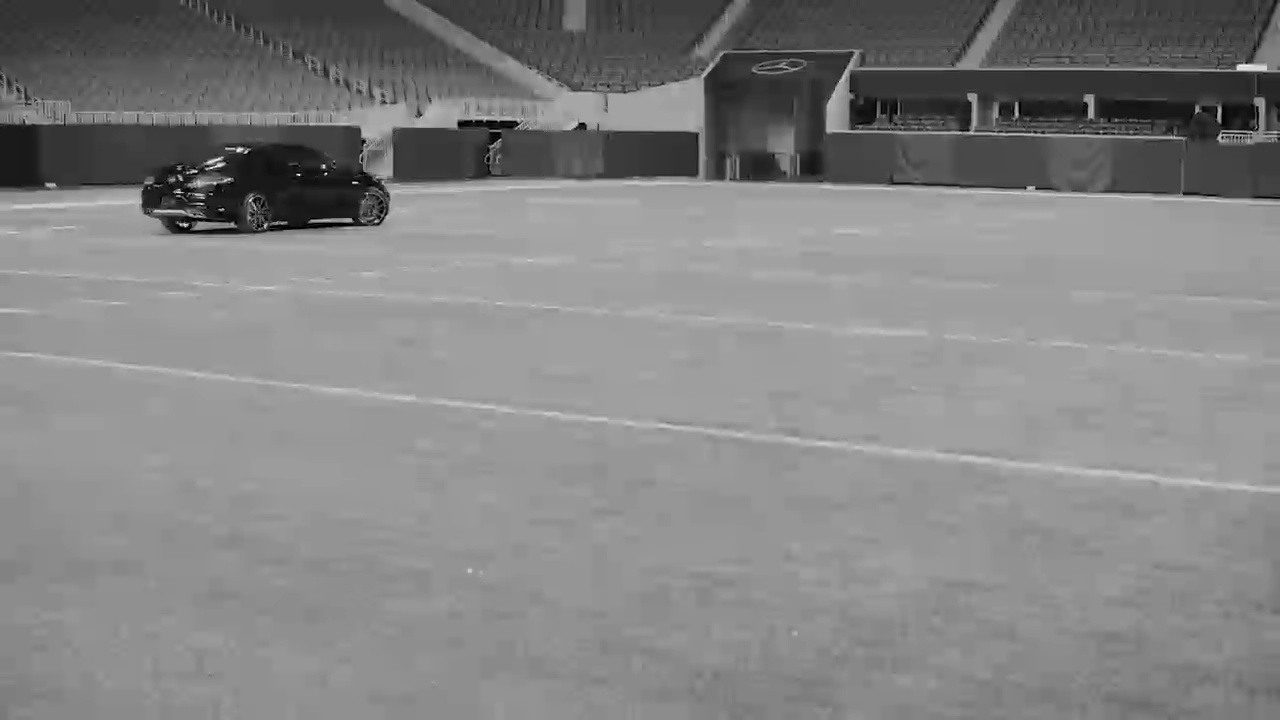car: (142, 140, 394, 233)
